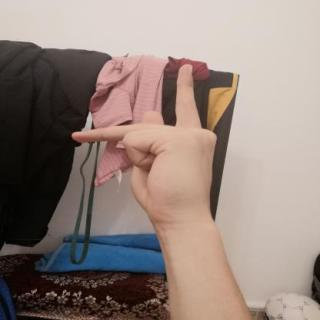DHAA: (59, 56, 225, 229)
